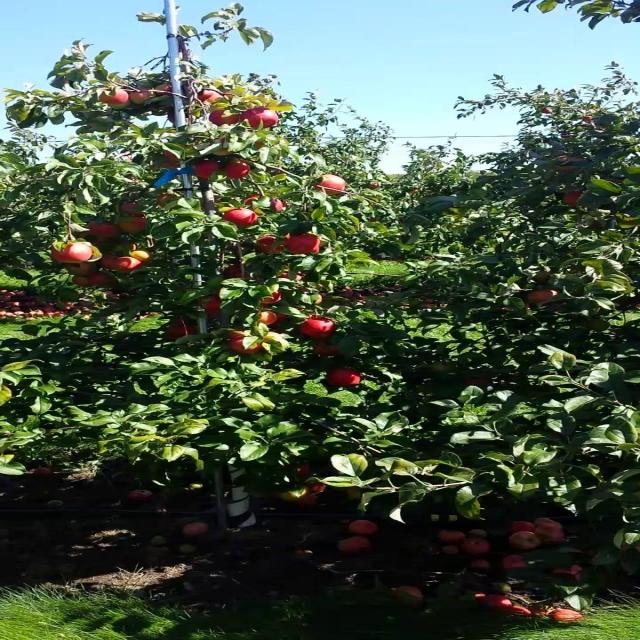apple: (298, 320, 340, 339), (56, 244, 94, 264), (326, 368, 363, 388), (312, 176, 348, 196), (248, 108, 281, 128), (248, 196, 288, 212), (227, 208, 258, 228), (234, 336, 263, 356), (191, 160, 220, 180), (554, 156, 588, 173), (255, 236, 284, 255), (227, 160, 252, 180), (99, 88, 128, 105), (120, 216, 149, 232), (212, 112, 242, 127), (92, 224, 121, 238), (291, 236, 320, 249), (92, 272, 117, 287), (120, 256, 142, 273), (312, 344, 341, 356), (532, 292, 560, 304), (70, 264, 98, 276), (198, 296, 222, 310), (170, 324, 190, 340), (163, 152, 183, 168), (120, 204, 146, 216), (262, 312, 284, 326), (99, 256, 121, 270), (468, 376, 492, 388), (262, 292, 284, 305), (134, 92, 155, 105), (227, 328, 249, 340), (589, 320, 612, 331), (262, 332, 283, 344), (156, 196, 178, 207), (568, 192, 583, 208), (227, 268, 247, 280), (198, 92, 219, 103), (134, 252, 155, 263), (426, 300, 448, 310), (298, 496, 320, 506), (120, 240, 139, 251), (163, 160, 185, 169), (284, 272, 306, 281), (305, 484, 327, 493), (433, 364, 455, 373), (156, 84, 174, 95), (298, 464, 313, 477), (248, 196, 265, 207), (184, 80, 201, 91), (77, 276, 92, 288), (348, 488, 363, 500), (184, 324, 199, 336), (220, 92, 236, 103), (291, 248, 311, 256), (212, 148, 231, 156), (284, 492, 299, 502), (276, 200, 288, 212), (205, 312, 222, 320), (312, 296, 327, 305), (307, 244, 320, 254)
